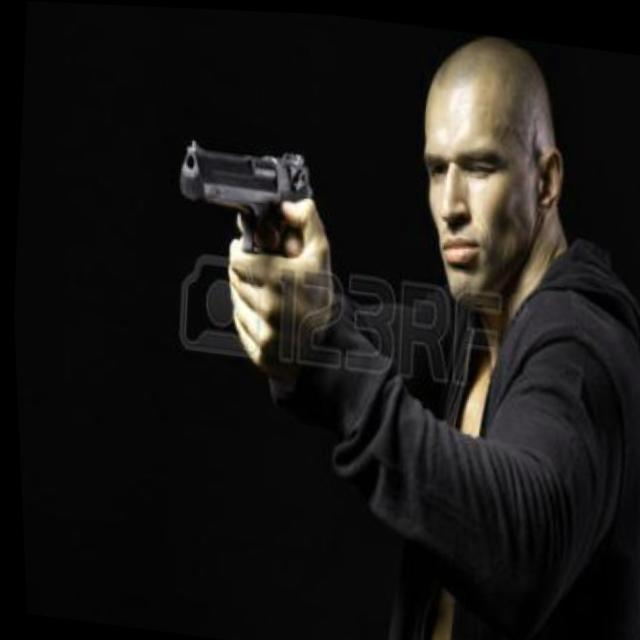weapon: (151, 118, 347, 368)
